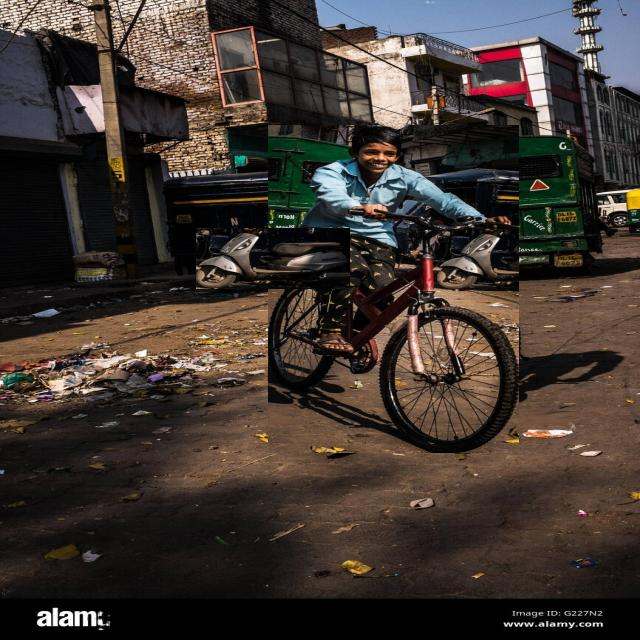bicycle: (269, 125, 519, 453)
motorcycle: (197, 229, 350, 289)
